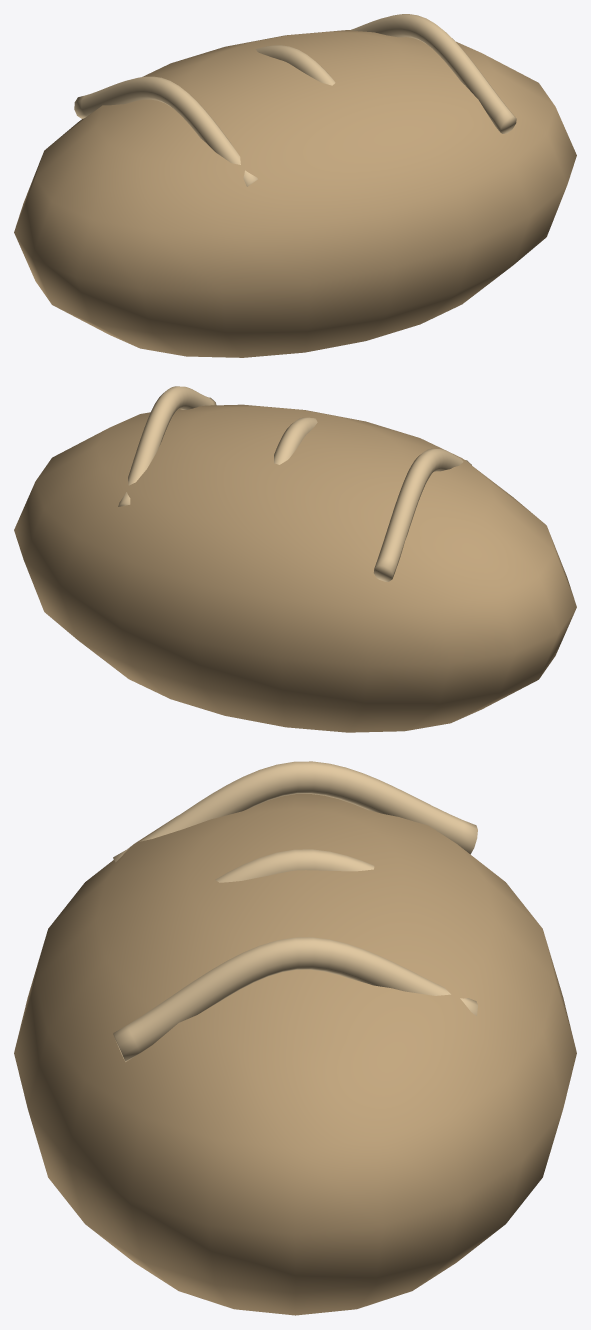
Rendered from bread.glb.
The picture shows the model from 3 angles, top to bottom: view 1: azimuth 30°, elevation 25°; view 2: azimuth 150°, elevation 25°; view 3: azimuth 270°, elevation 25°; orthographic projection. The views are drawn at different scales.
Parts seen in each view (by area): view 1: grounded-loaf, baked-score-0, baked-score-2, baked-score-1; view 2: grounded-loaf, baked-score-0, baked-score-2, baked-score-1; view 3: grounded-loaf, baked-score-2, baked-score-0, baked-score-1.
Part boxes in pixels (x1,y1,x2,y2): grounded-loaf: (14,30,576,357); baked-score-0: (74,76,257,186); baked-score-2: (350,14,516,133); baked-score-1: (255,45,335,85); grounded-loaf: (14,404,576,732); baked-score-0: (373,448,471,581); baked-score-2: (118,386,216,506); baked-score-1: (274,417,317,464); grounded-loaf: (14,794,576,1315); baked-score-2: (113,937,477,1061); baked-score-0: (113,761,477,862); baked-score-1: (215,849,374,882).
Bounding box in the file's own units: 0.35 × 0.1768 × 0.23.
